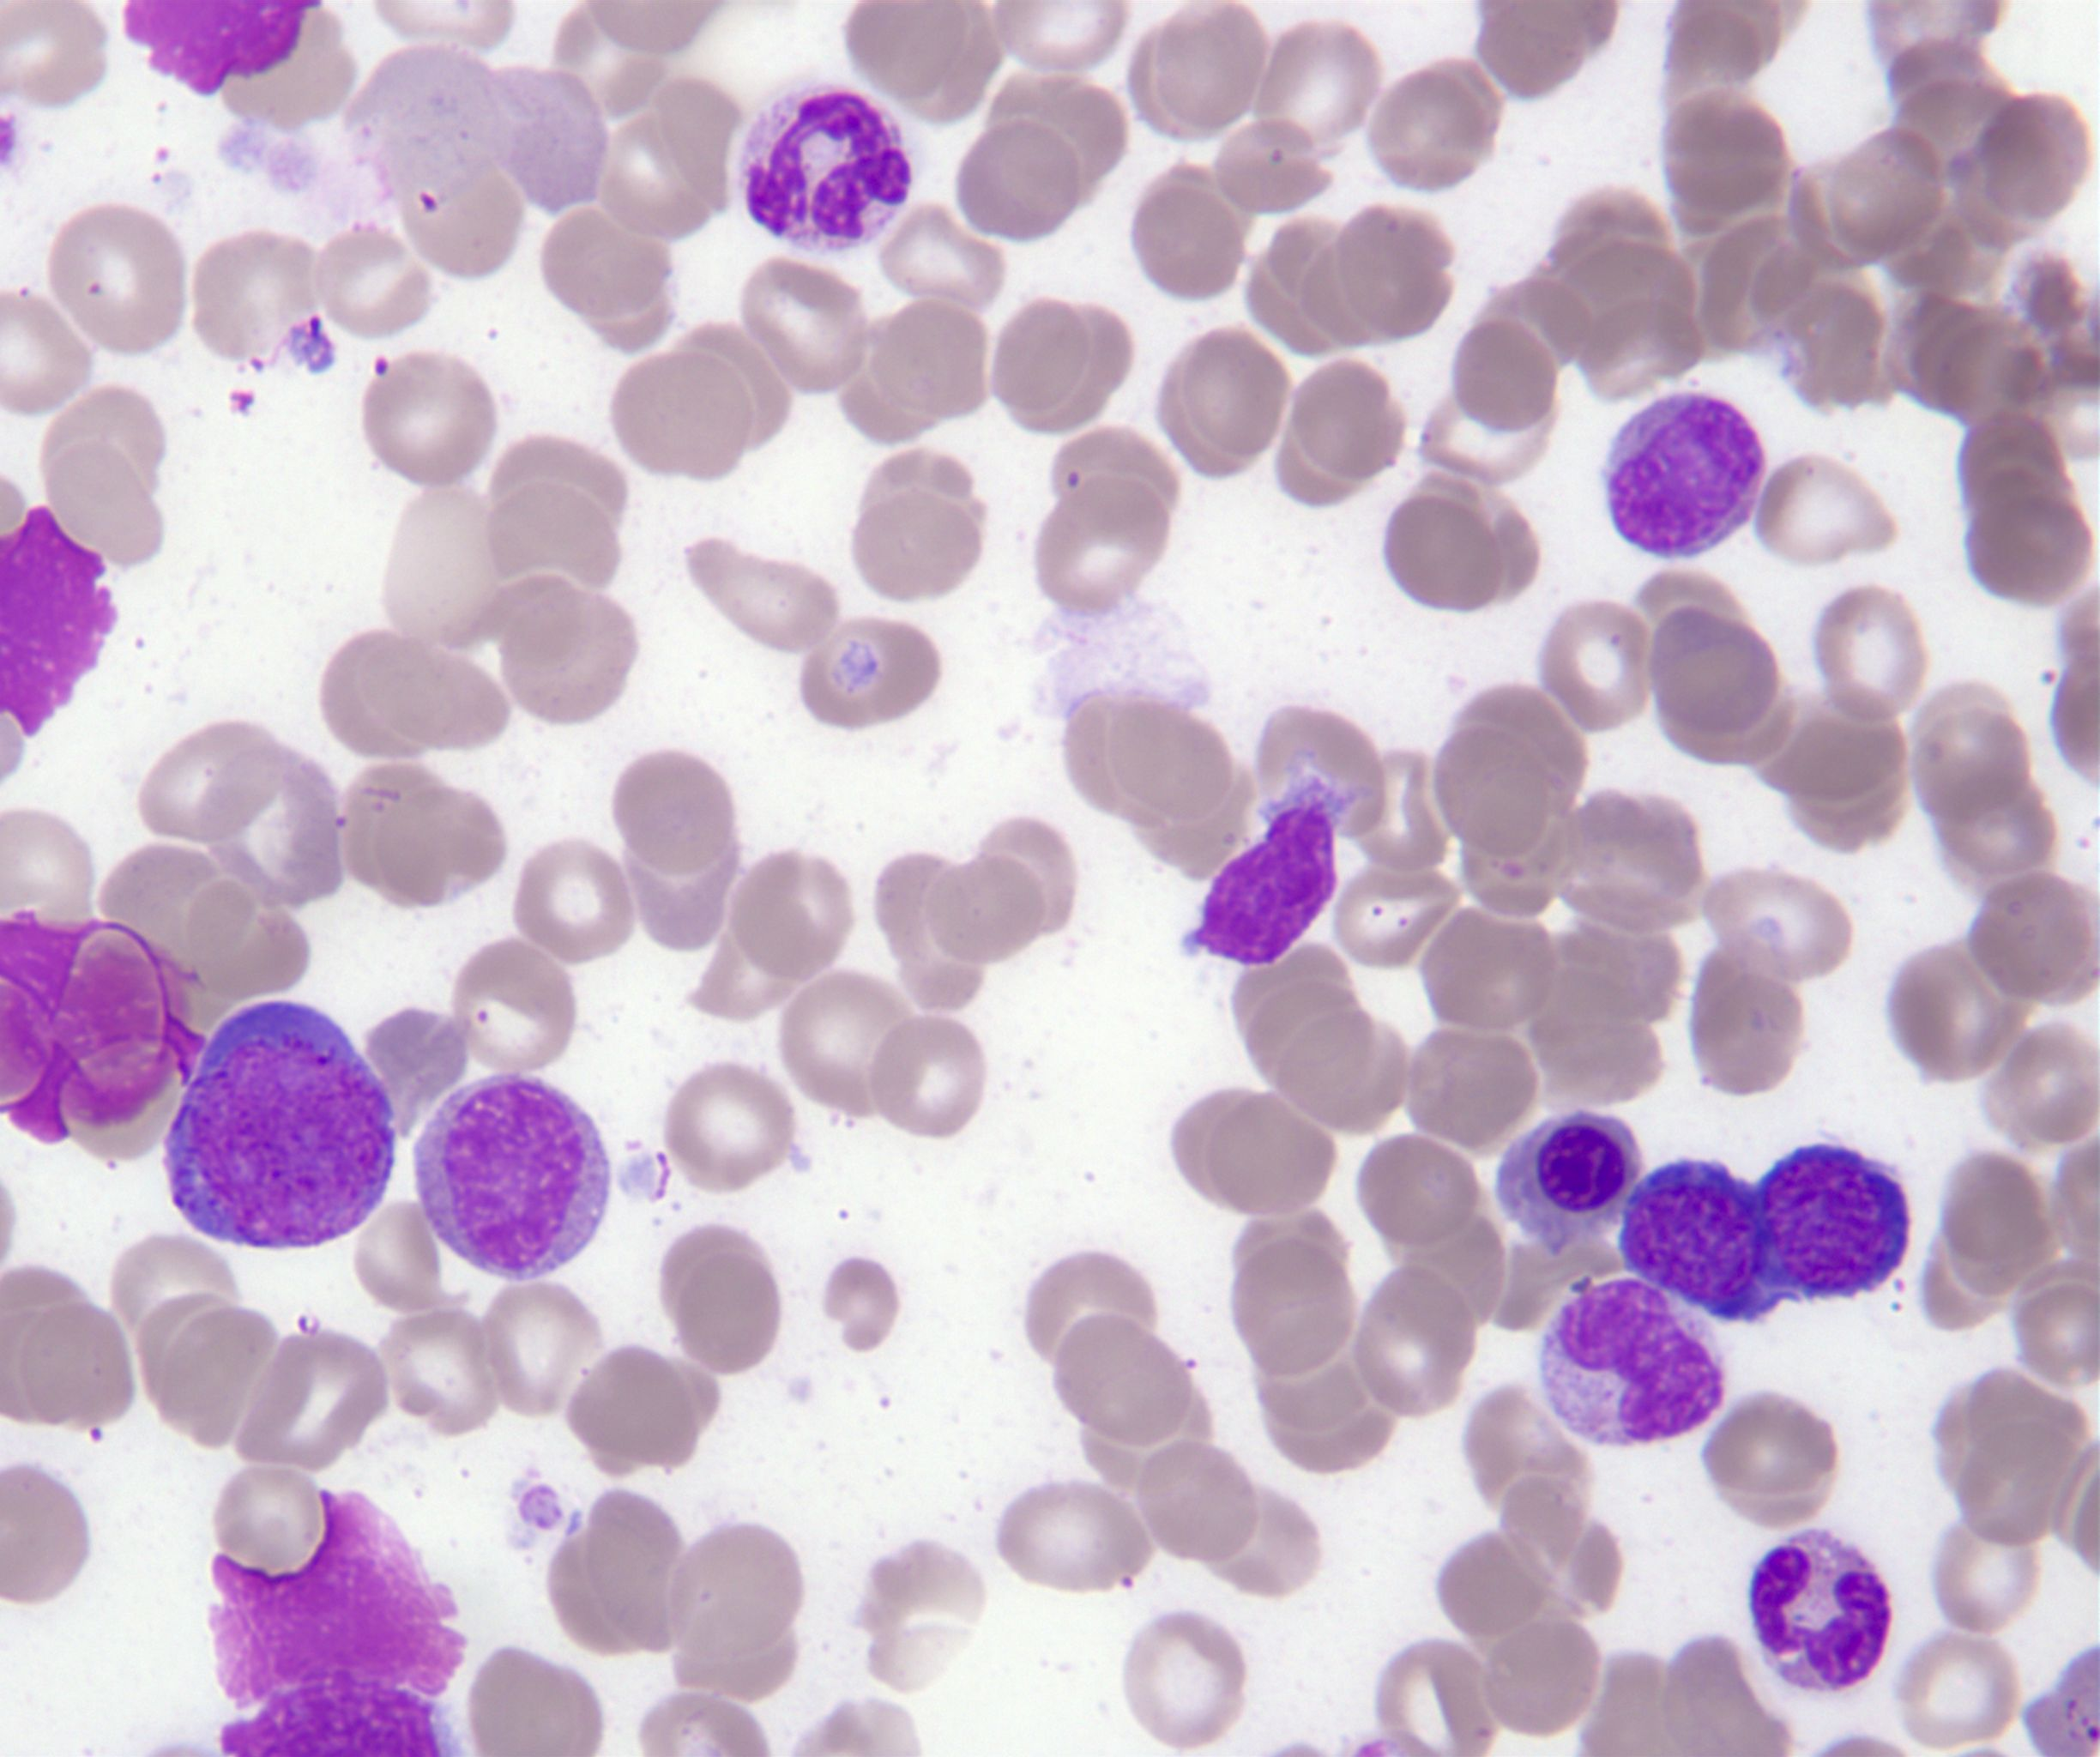2: (167, 1002, 394, 1249)
22: (1622, 1160, 1781, 1319), (1760, 1145, 1908, 1300)
23: (1497, 1108, 1641, 1253)
3: (412, 1078, 607, 1279), (1605, 396, 1765, 558)
32: (1184, 775, 1348, 965)
5: (734, 84, 910, 253), (1547, 1279, 1725, 1445), (1751, 1532, 1891, 1694)
x: (211, 1490, 464, 1757), (0, 916, 204, 1146), (2, 509, 115, 736), (120, 2, 314, 98)
